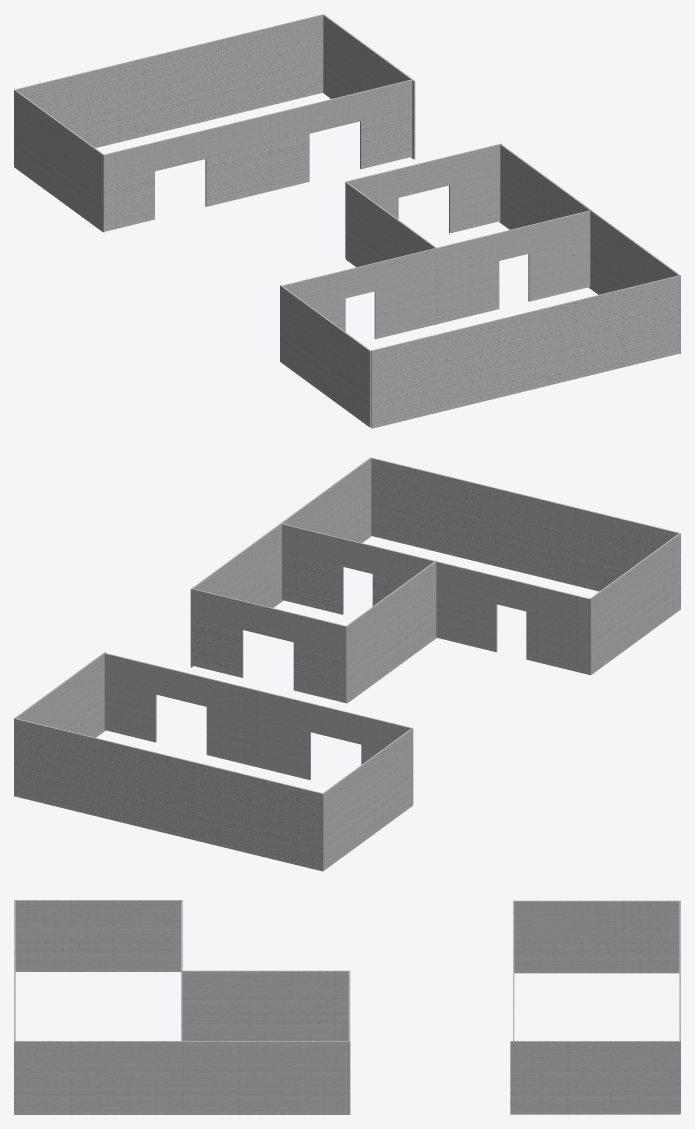
The model's file is Wall_NewTexture_4_28_vs01.fbx.
The picture shows the model from 3 angles, top to bottom: view 1: azimuth 30°, elevation 25°; view 2: azimuth 150°, elevation 25°; view 3: azimuth 270°, elevation 25°; orthographic projection. The views are drawn at different scales.
Parts seen in each view (by area): view 1: wall17, wall21, wall1, wall14, wall20, wall11, wall5, wall3, wall19, wall9, wall7; view 2: wall21, wall17, wall14, wall1, wall5, wall20, wall11, wall9, wall7, wall3, wall19; view 3: wall3, wall7, wall19, wall11, wall20, wall9, wall21, wall17.
Boxes of the visible parts, x1=… form: wall17: x1=371, y1=275, x2=679, y2=428; wall21: x1=14, y1=14, x2=323, y2=147; wall1: x1=103, y1=79, x2=412, y2=231; wall14: x1=282, y1=210, x2=590, y2=339; wall20: x1=280, y1=285, x2=371, y2=427; wall11: x1=14, y1=90, x2=104, y2=232; wall5: x1=345, y1=144, x2=500, y2=257; wall3: x1=323, y1=14, x2=415, y2=159; wall19: x1=589, y1=209, x2=680, y2=353; wall9: x1=345, y1=182, x2=436, y2=324; wall7: x1=499, y1=143, x2=590, y2=287; wall21: x1=15, y1=718, x2=323, y2=871; wall17: x1=371, y1=457, x2=678, y2=591; wall14: x1=282, y1=523, x2=589, y2=674; wall1: x1=104, y1=653, x2=413, y2=804; wall5: x1=191, y1=588, x2=347, y2=703; wall20: x1=589, y1=533, x2=680, y2=675; wall11: x1=323, y1=728, x2=412, y2=870; wall9: x1=346, y1=560, x2=436, y2=703; wall7: x1=190, y1=523, x2=281, y2=667; wall3: x1=14, y1=651, x2=106, y2=796; wall19: x1=281, y1=457, x2=371, y2=601; wall3: x1=510, y1=1041, x2=680, y2=1114; wall7: x1=182, y1=1041, x2=350, y2=1114; wall19: x1=14, y1=1041, x2=182, y2=1114; wall11: x1=514, y1=900, x2=679, y2=973; wall20: x1=14, y1=900, x2=182, y2=971; wall9: x1=181, y1=970, x2=348, y2=1040; wall21: x1=679, y1=900, x2=680, y2=1113; wall17: x1=14, y1=901, x2=15, y2=1113.
Bounding box in the file's own units: 392 × 94.7 × 781.
1 material, 1 textured.
